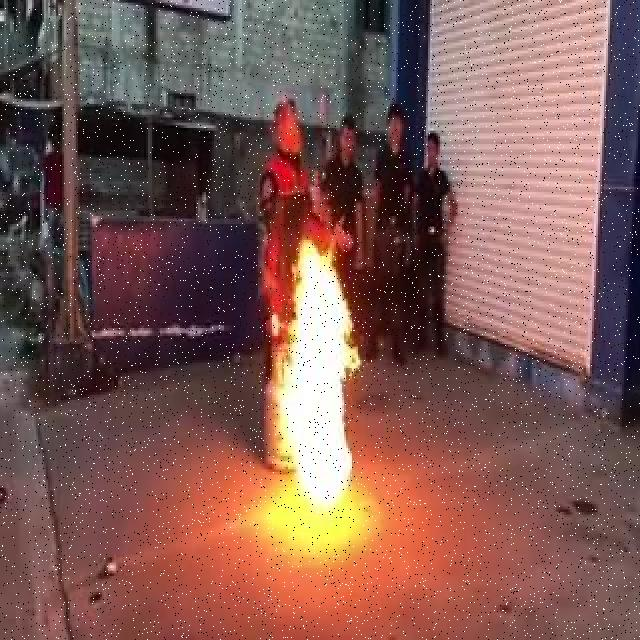fire: (279, 232, 361, 511)
